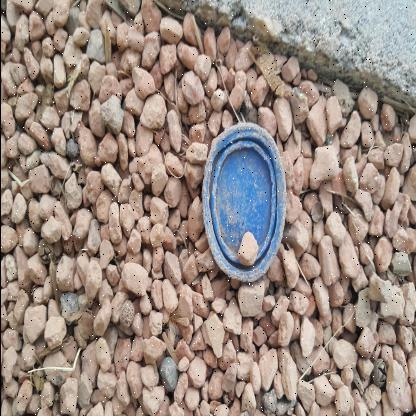plastic: (198, 123, 294, 287)
